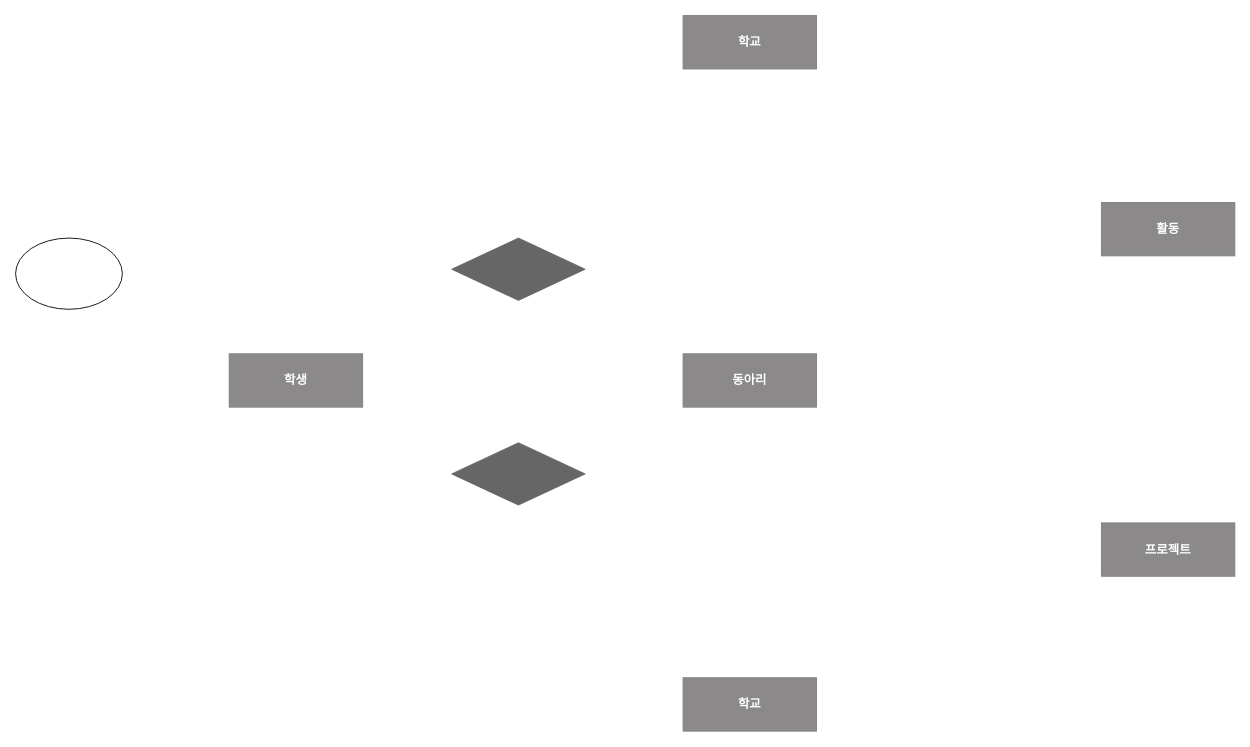
Some shapes in this 1250 by 747 pixel diagram are drawn without their labels. Each missing label, with the box of its shape:
JOIN: (451, 237, 585, 300)
LEAD: (451, 442, 585, 505)
